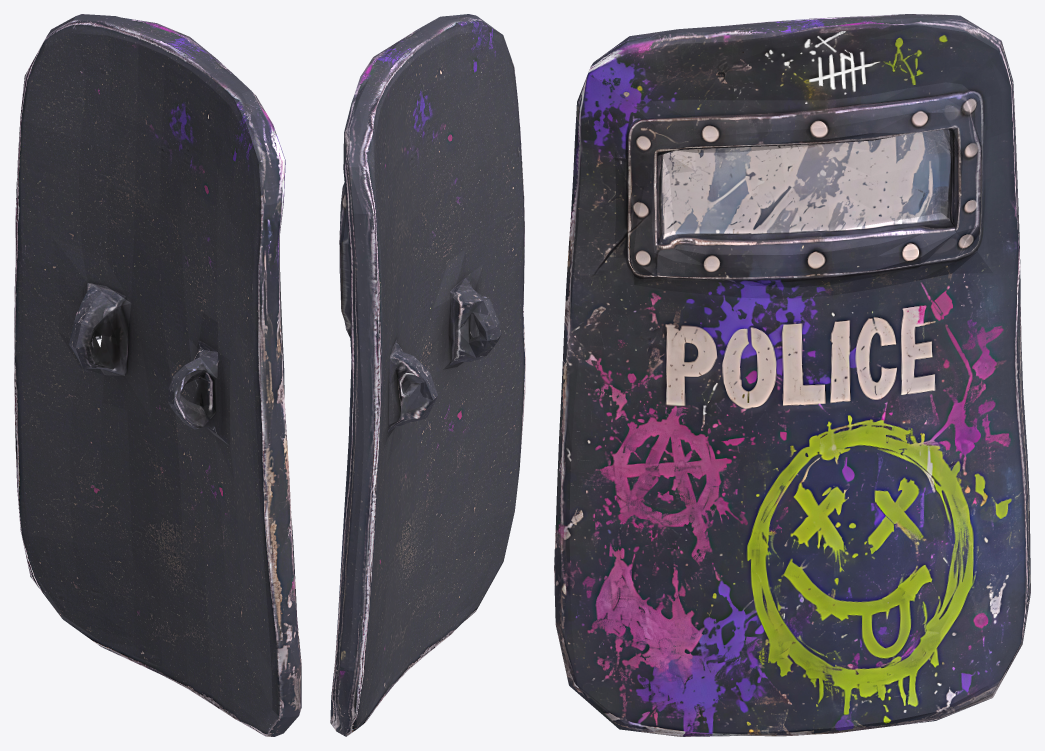
Rendered from prop-shield.glb.
The picture shows the model from 3 angles, left to right: view 1: azimuth 30°, elevation 25°; view 2: azimuth 150°, elevation 25°; view 3: azimuth 270°, elevation 25°; orthographic projection. The views are drawn at different scales.
Parts seen in each view (by area): view 1: tripo_node_e8980298-57df-4ac1-88c9-f9a49e6a7a1e; view 2: tripo_node_e8980298-57df-4ac1-88c9-f9a49e6a7a1e; view 3: tripo_node_e8980298-57df-4ac1-88c9-f9a49e6a7a1e.
Part boxes in pixels (x1,y1,x2,y2): tripo_node_e8980298-57df-4ac1-88c9-f9a49e6a7a1e: [14, 14, 301, 736]; tripo_node_e8980298-57df-4ac1-88c9-f9a49e6a7a1e: [330, 14, 525, 736]; tripo_node_e8980298-57df-4ac1-88c9-f9a49e6a7a1e: [554, 14, 1030, 736].
Bounding box in the file's own units: 0.1665 × 1 × 0.6106.
Materials: 1 (1 with a texture image).
